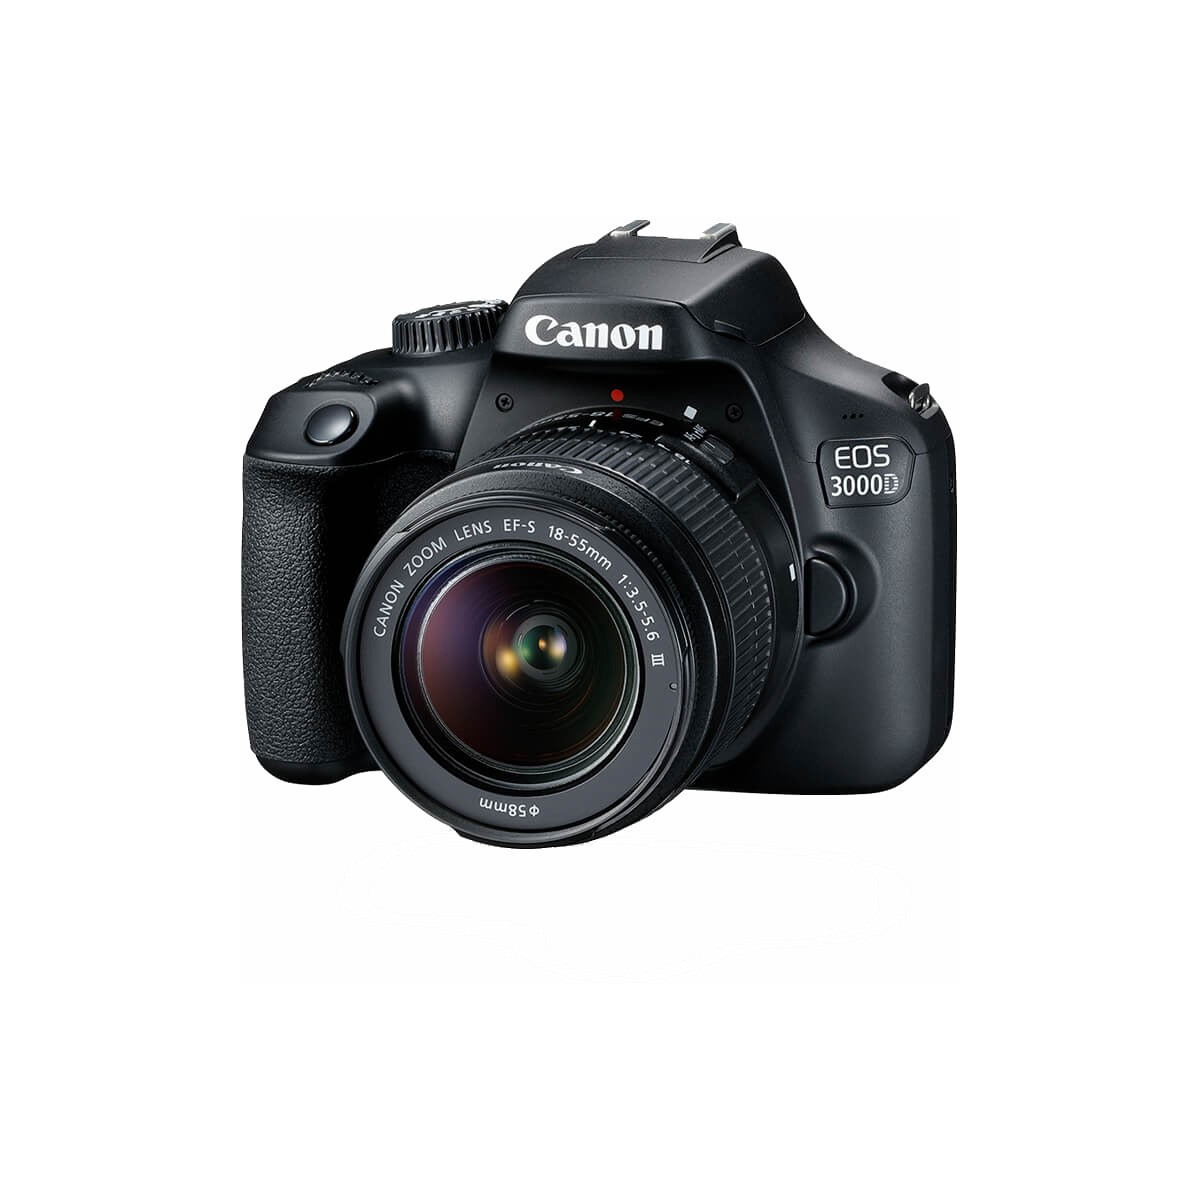kamera: (216, 203, 973, 860)
